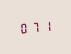one: (41, 19, 51, 32)
seven: (30, 20, 40, 33)
zero: (18, 21, 28, 34)
